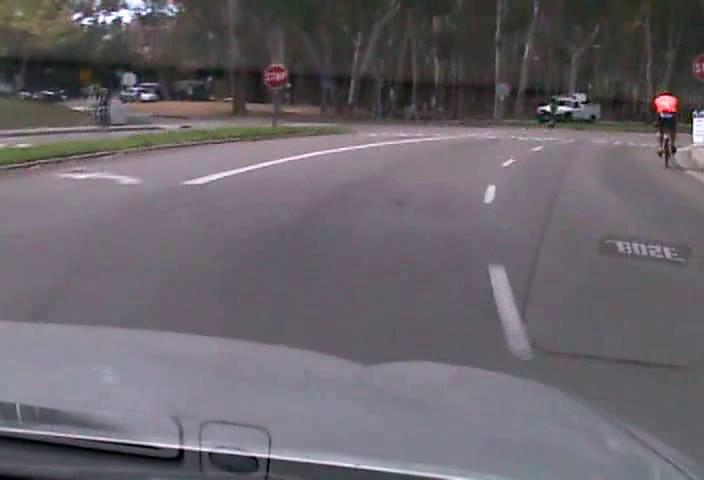stop: (262, 63, 288, 89)
